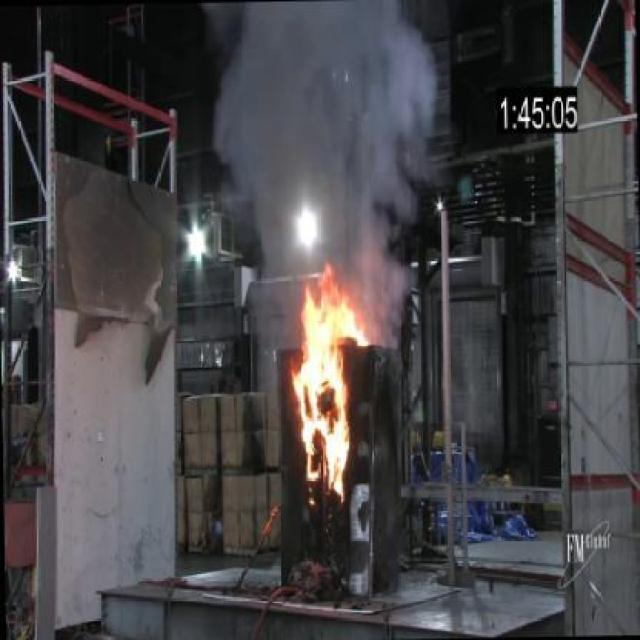fire: (200, 8, 445, 258)
smoke: (290, 262, 375, 507)
